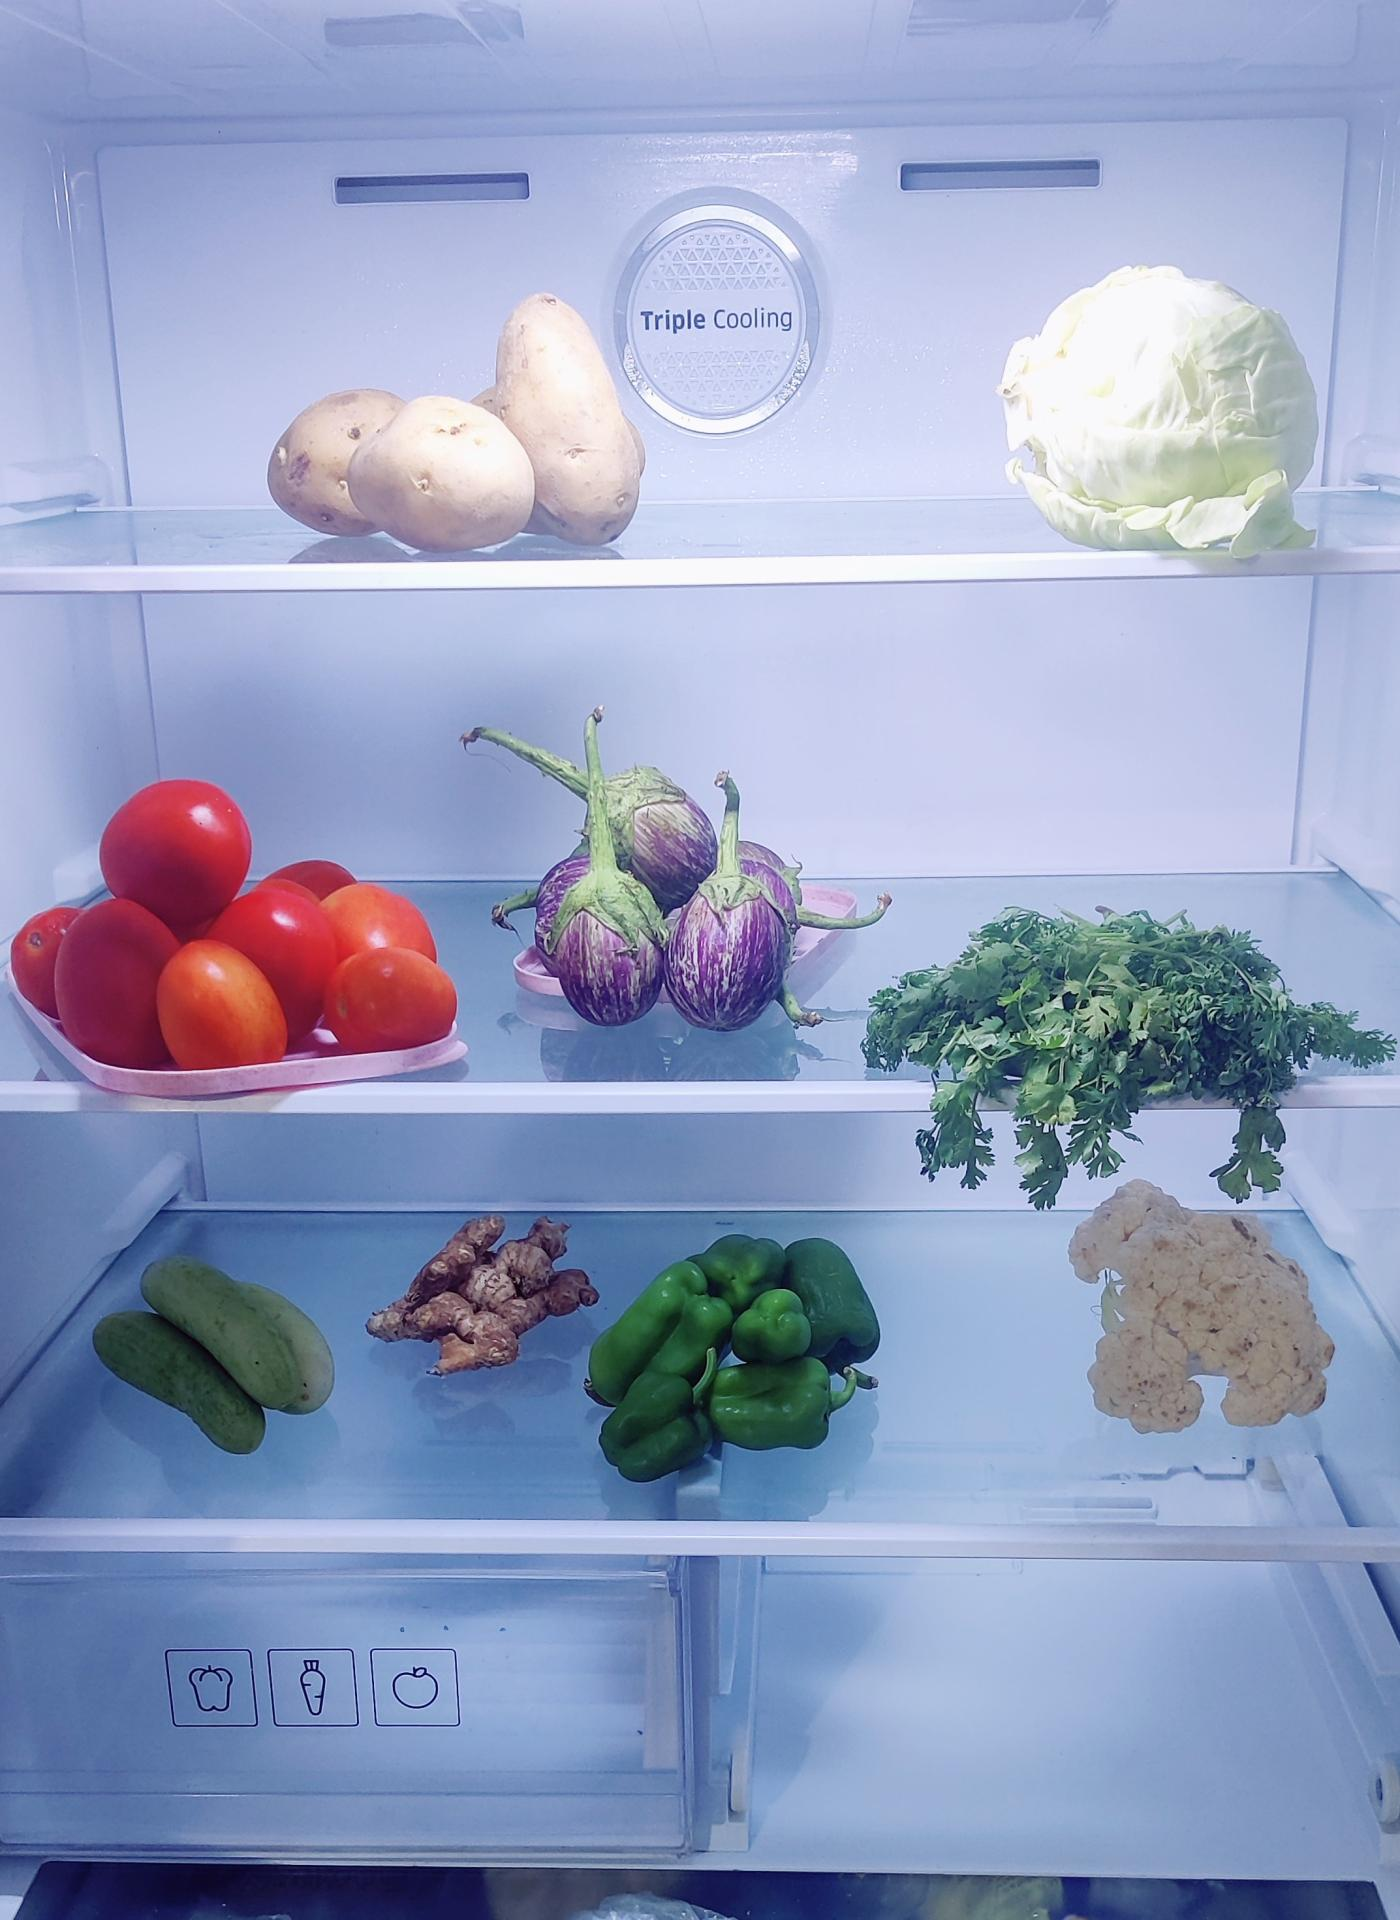cabbage: (1012, 264, 1315, 534)
capsicum: (604, 1236, 872, 1476)
cauliflower: (1081, 1185, 1322, 1433)
coriander: (875, 906, 1366, 1115)
cucumber: (94, 1249, 335, 1453)
ginger: (374, 1210, 596, 1377)
potato: (271, 295, 641, 550)
tomato: (63, 781, 446, 1052)
